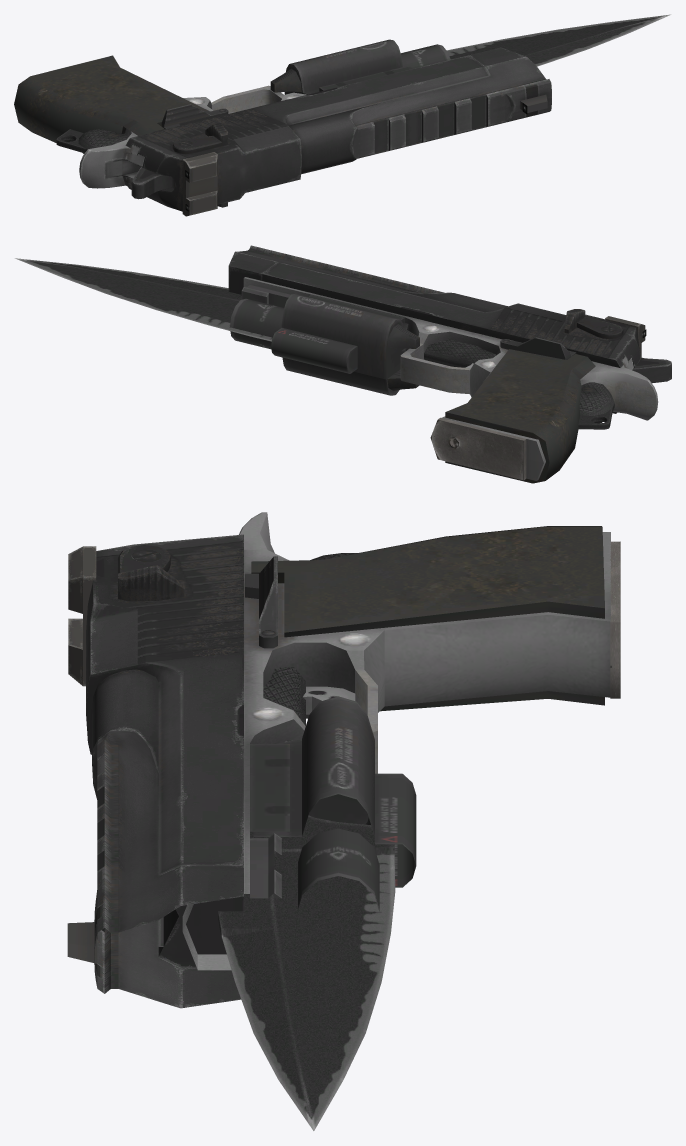
File: viewmodel_desert_eagle_tactical_LOD0.obj
3 renders of one model, top to bottom at view 1: azimuth 30°, elevation 25°; view 2: azimuth 150°, elevation 25°; view 3: azimuth 270°, elevation 25°, orthographic. The views are drawn at different scales.
Parts seen in each view (by area): view 1: mtl_weapon_desert_eagle_tactical, mtl_weapon_bolo_knife; view 2: mtl_weapon_desert_eagle_tactical, mtl_weapon_bolo_knife; view 3: mtl_weapon_desert_eagle_tactical, mtl_weapon_bolo_knife.
Boxes of the visible parts, x1=… form: mtl_weapon_desert_eagle_tactical: x1=14, y1=39, x2=551, y2=216; mtl_weapon_bolo_knife: x1=56, y1=14, x2=670, y2=153; mtl_weapon_desert_eagle_tactical: x1=228, y1=245, x2=671, y2=483; mtl_weapon_bolo_knife: x1=15, y1=258, x2=614, y2=429; mtl_weapon_desert_eagle_tactical: x1=67, y1=512, x2=620, y2=1008; mtl_weapon_bolo_knife: x1=218, y1=553, x2=395, y2=1130.
Bounding box in the file's own units: 41.55 × 5.27 × 16.53.
